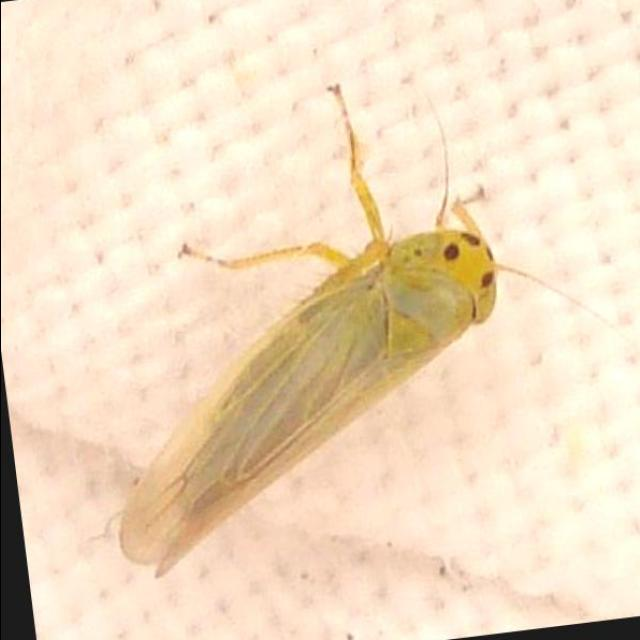green leaf hopper: (120, 87, 501, 574)
